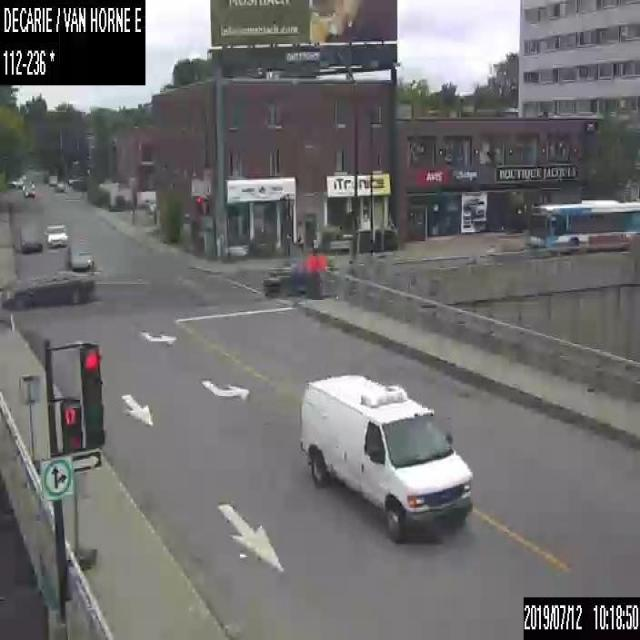bus: (526, 197, 639, 255)
construction: (65, 469, 96, 568), (16, 374, 42, 473), (304, 253, 316, 300), (316, 253, 327, 298)
vehicle: (297, 372, 473, 544), (1, 270, 94, 310), (260, 260, 332, 296), (68, 240, 94, 269), (44, 221, 68, 247), (19, 227, 41, 252), (46, 181, 64, 191), (144, 197, 155, 212), (24, 183, 35, 196)
